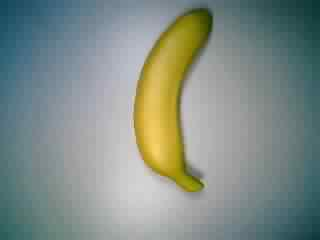banana: (131, 6, 224, 197)
